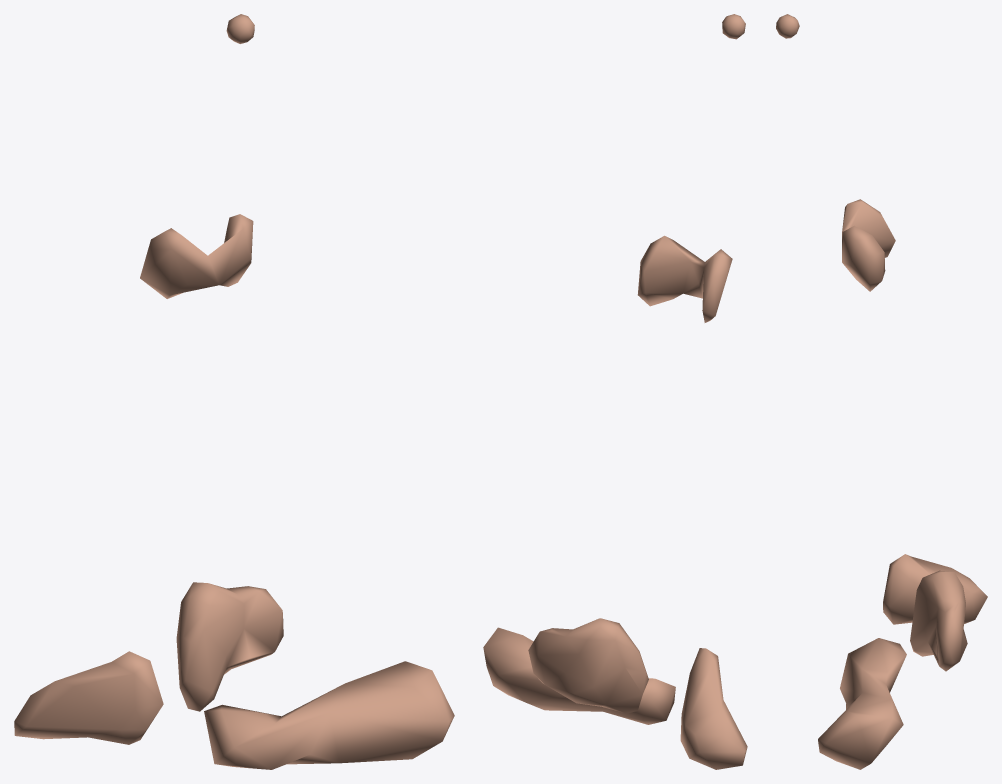
The model's file is pediatric_neonate_male.endocrine.LOD3.glb.
3 views of the same model, side by side, from view 1: azimuth 30°, elevation 25°; view 2: azimuth 150°, elevation 25°; view 3: azimuth 270°, elevation 25° (orthographic). The views are drawn at different scales.
Visible parts, largest first — view 1: PEDIATRIC.NEONATE.MALE.ENDOCRINE.PANCREAS, PEDIATRIC.NEONATE.MALE.ENDOCRINE.ADRENAL.L, PEDIATRIC.NEONATE.MALE.ENDOCRINE.ADRENAL.R, PEDIATRIC.NEONATE.MALE.ENDOCRINE.THYROID; view 2: PEDIATRIC.NEONATE.MALE.ENDOCRINE.ADRENAL.L, PEDIATRIC.NEONATE.MALE.ENDOCRINE.PANCREAS, PEDIATRIC.NEONATE.MALE.ENDOCRINE.ADRENAL.R, PEDIATRIC.NEONATE.MALE.ENDOCRINE.THYROID, PEDIATRIC.NEONATE.MALE.ENDOCRINE.PITUITARY_GLAND; view 3: PEDIATRIC.NEONATE.MALE.ENDOCRINE.PANCREAS, PEDIATRIC.NEONATE.MALE.ENDOCRINE.ADRENAL.L, PEDIATRIC.NEONATE.MALE.ENDOCRINE.THYROID, PEDIATRIC.NEONATE.MALE.ENDOCRINE.ADRENAL.R, PEDIATRIC.NEONATE.MALE.ENDOCRINE.PITUITARY_GLAND.
Boxes of the visible parts, x1=… form: PEDIATRIC.NEONATE.MALE.ENDOCRINE.PANCREAS: x1=204, y1=661, x2=454, y2=769; PEDIATRIC.NEONATE.MALE.ENDOCRINE.ADRENAL.L: x1=176, y1=582, x2=283, y2=711; PEDIATRIC.NEONATE.MALE.ENDOCRINE.ADRENAL.R: x1=14, y1=651, x2=163, y2=744; PEDIATRIC.NEONATE.MALE.ENDOCRINE.THYROID: x1=140, y1=214, x2=253, y2=298; PEDIATRIC.NEONATE.MALE.ENDOCRINE.ADRENAL.L: x1=528, y1=618, x2=648, y2=713; PEDIATRIC.NEONATE.MALE.ENDOCRINE.PANCREAS: x1=483, y1=627, x2=675, y2=724; PEDIATRIC.NEONATE.MALE.ENDOCRINE.ADRENAL.R: x1=680, y1=648, x2=747, y2=769; PEDIATRIC.NEONATE.MALE.ENDOCRINE.THYROID: x1=637, y1=235, x2=732, y2=322; PEDIATRIC.NEONATE.MALE.ENDOCRINE.PITUITARY_GLAND: x1=722, y1=14, x2=745, y2=39; PEDIATRIC.NEONATE.MALE.ENDOCRINE.PANCREAS: x1=818, y1=638, x2=906, y2=769; PEDIATRIC.NEONATE.MALE.ENDOCRINE.ADRENAL.L: x1=910, y1=570, x2=967, y2=671; PEDIATRIC.NEONATE.MALE.ENDOCRINE.THYROID: x1=842, y1=199, x2=895, y2=291; PEDIATRIC.NEONATE.MALE.ENDOCRINE.ADRENAL.R: x1=883, y1=554, x2=987, y2=624; PEDIATRIC.NEONATE.MALE.ENDOCRINE.PITUITARY_GLAND: x1=776, y1=14, x2=799, y2=38.
Bounding box in the file's own units: 0.0857 × 0.1855 × 0.0533.
